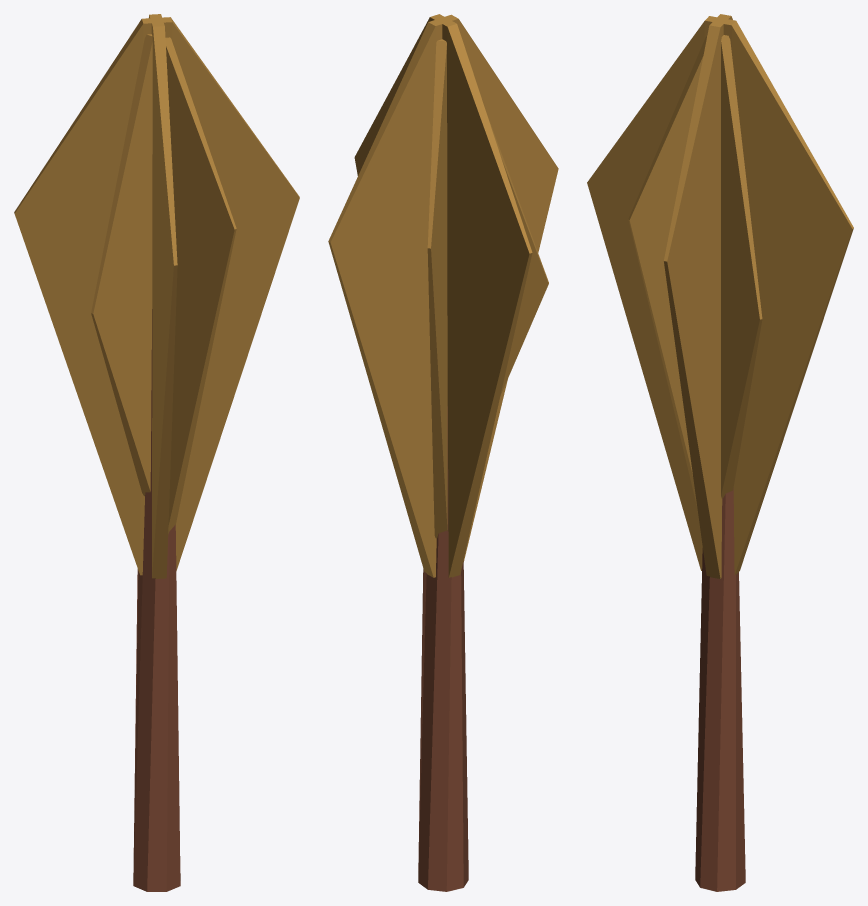
Rendered from Tree_31_autumn_mat.fbx.
The picture shows the model from 3 angles, left to right: view 1: azimuth 30°, elevation 25°; view 2: azimuth 150°, elevation 25°; view 3: azimuth 270°, elevation 25°; orthographic projection.
Parts seen in each view (by area): view 1: Tree_31_autumn_mat; view 2: Tree_31_autumn_mat; view 3: Tree_31_autumn_mat.
Boxes of the visible parts, x1,y1,x2,y2 form: Tree_31_autumn_mat: (14, 14, 299, 891); Tree_31_autumn_mat: (328, 14, 558, 891); Tree_31_autumn_mat: (587, 14, 853, 891).
Bounding box in the file's own units: 3.38 × 12.04 × 3.38.
